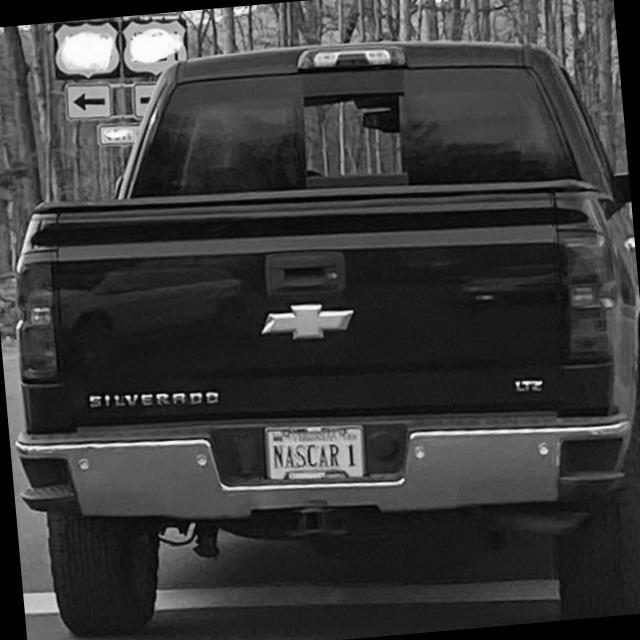LicensePlate: (263, 423, 367, 480)
